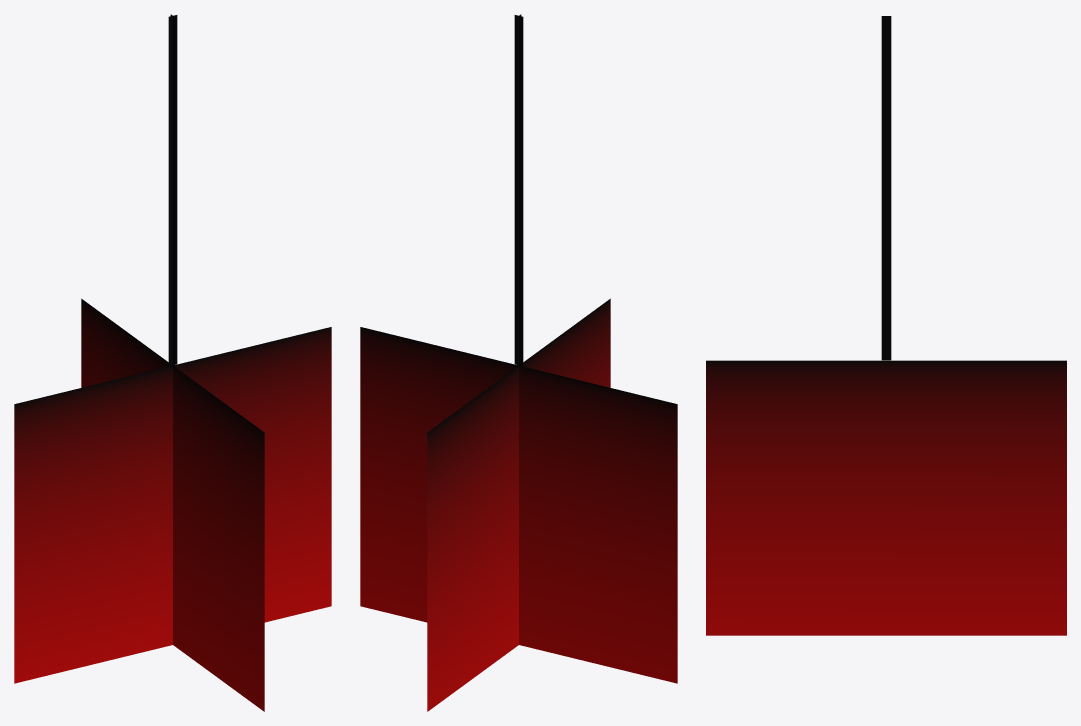
File: BlueJadeVine.fbx
3 views of the same model, side by side, from view 1: azimuth 30°, elevation 25°; view 2: azimuth 150°, elevation 25°; view 3: azimuth 270°, elevation 25° (orthographic).
Parts seen in each view (by area): view 1: BlueJadeVine; view 2: BlueJadeVine; view 3: BlueJadeVine.
Boxes of the visible parts, x1=… form: BlueJadeVine: x1=14, y1=14, x2=331, y2=711; BlueJadeVine: x1=360, y1=14, x2=677, y2=711; BlueJadeVine: x1=706, y1=16, x2=1066, y2=635.
Size of the model in its own units: 1.69 by 3.2 by 1.69.
